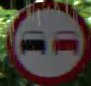No overtake: (6, 2, 87, 85)
